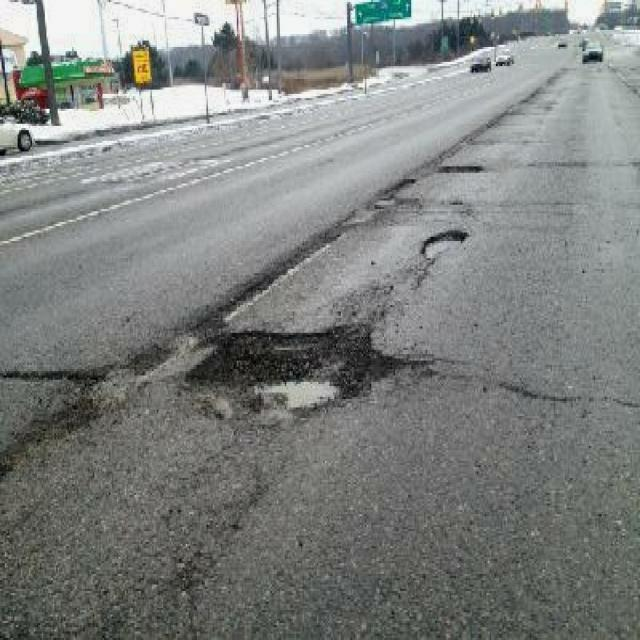Pothole: (181, 320, 400, 412), (421, 224, 474, 262), (437, 162, 486, 173)
